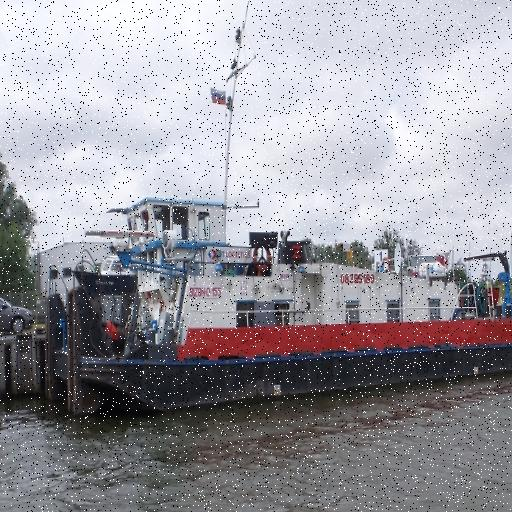tugboat: (38, 194, 512, 430)
